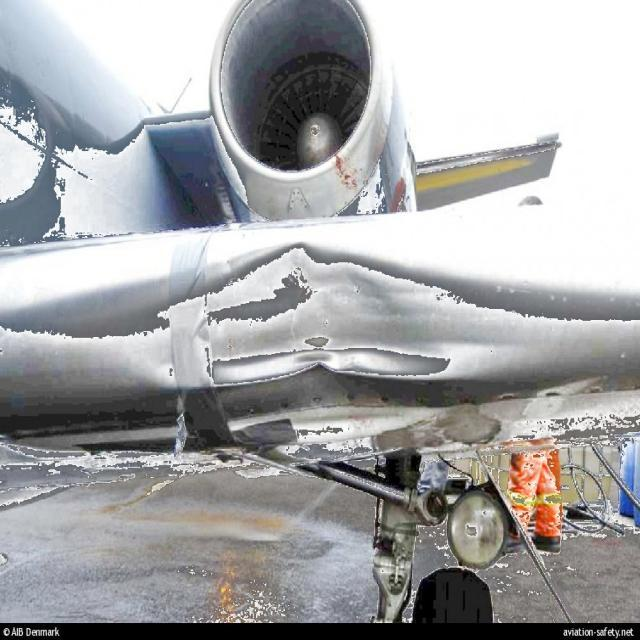dent: (147, 339, 455, 395)
